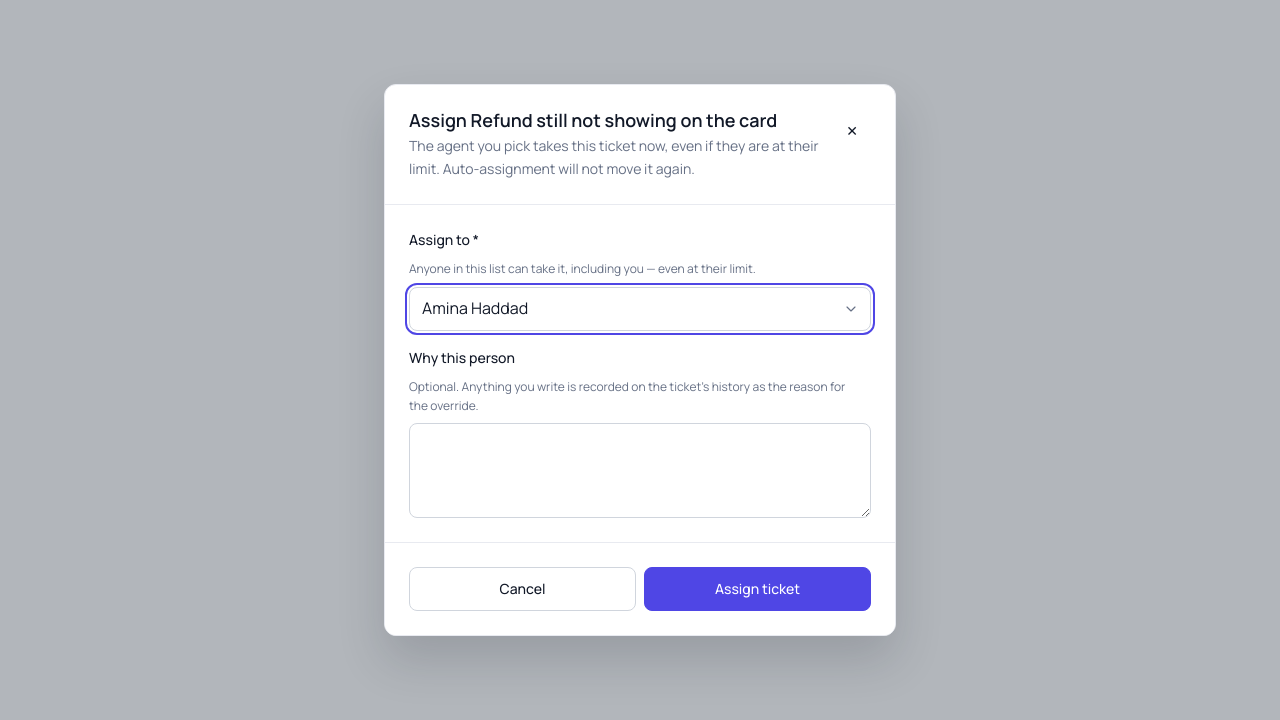
AssignFlaggedTicketDialog › keeps the dialog open and shows the refusal when the write fails
Type "Amina has room and knows the account." into the text box labelled "Why this person".
click(640, 471); type("Amina has room and knows the account.")  # box [409,423,871,518]
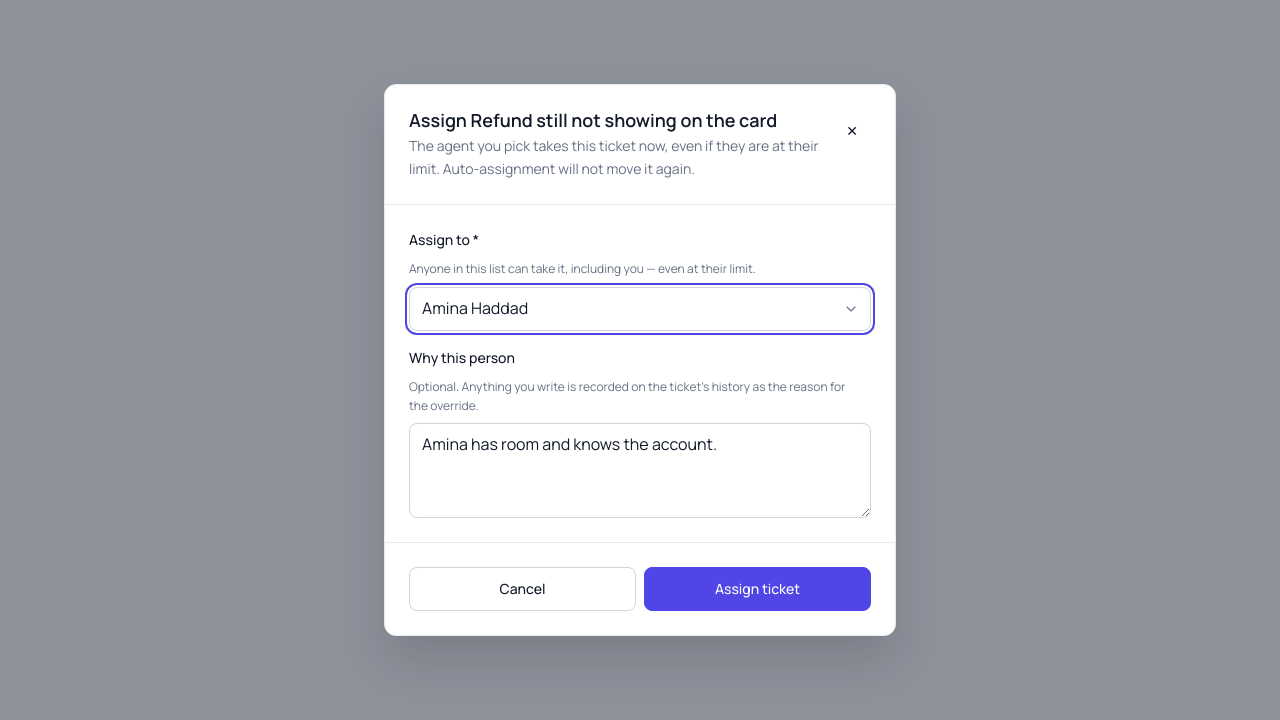
Click the button "Assign ticket".
click(758, 589)  # box [644,567,871,611]
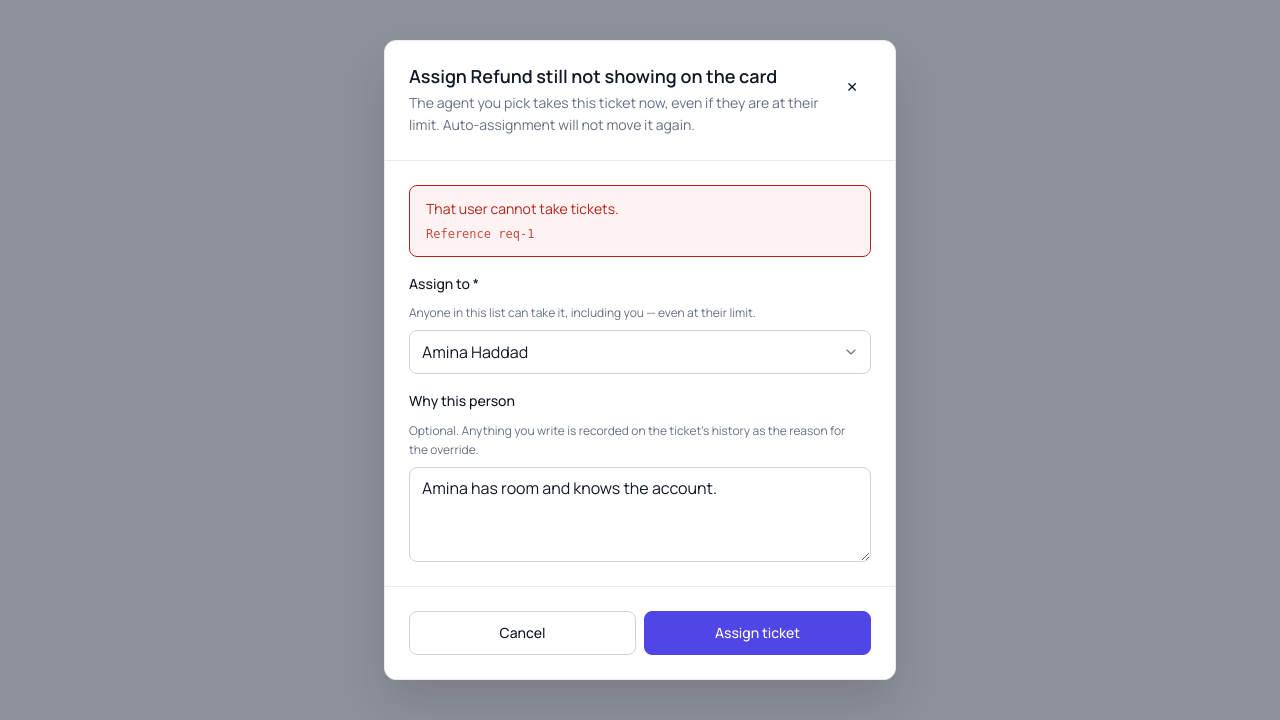
Expected: the text "That user cannot take tickets." is shown, [426,199,619,218]
